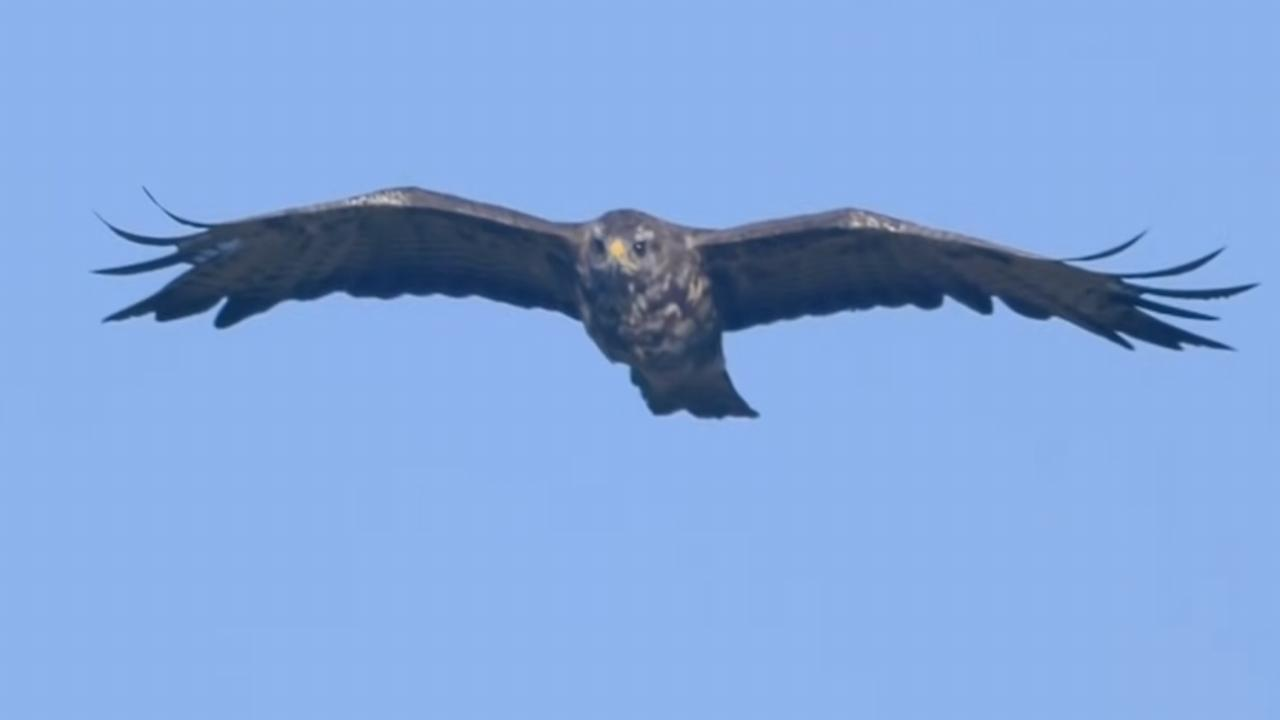Bird: (80, 156, 1264, 454)
